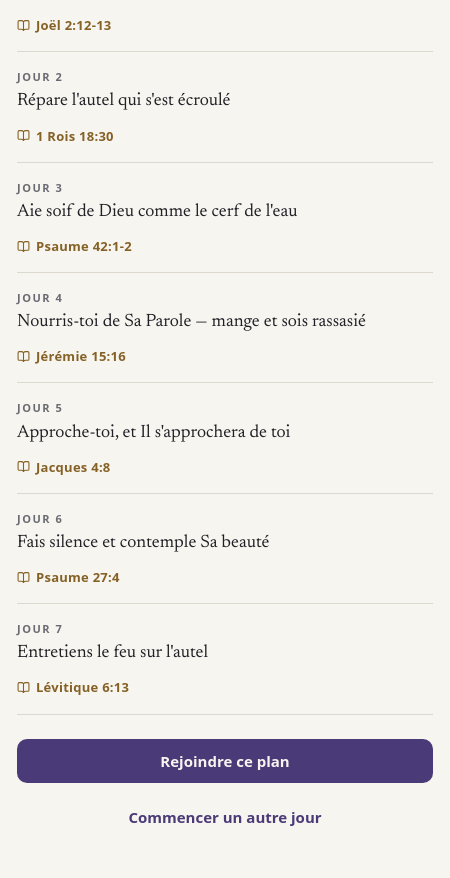
PlanJoinPage › asks an existing member before starting anything
The width and height of the screenshot is (450, 878).
(page scrolled)
Click the button "Rejoindre ce plan" at point(225, 760), box [17,738,433,782]
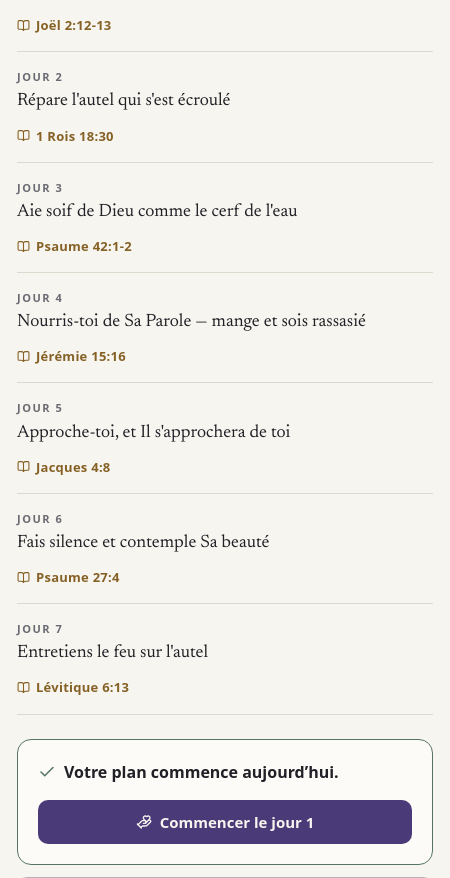
Expected: the text "Votre plan commence aujourd’hui." is shown, [38,760,339,782]
